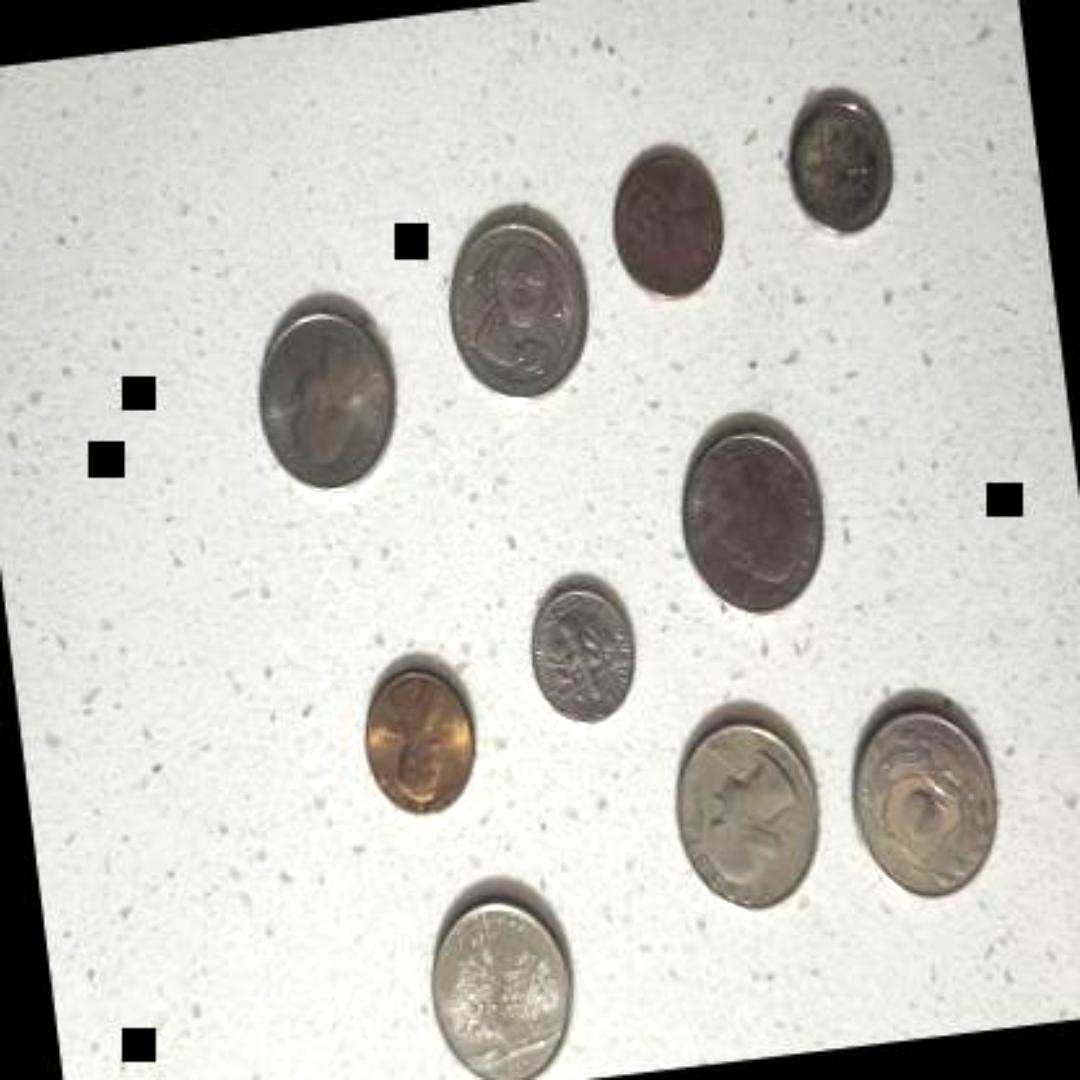Dime: (770, 74, 904, 250), (518, 570, 642, 734)
Penny: (342, 637, 492, 829), (596, 129, 736, 313)
Quarter: (839, 678, 1015, 909), (662, 406, 836, 620), (436, 196, 602, 416), (415, 880, 588, 1080), (663, 706, 829, 914), (250, 296, 400, 494)
